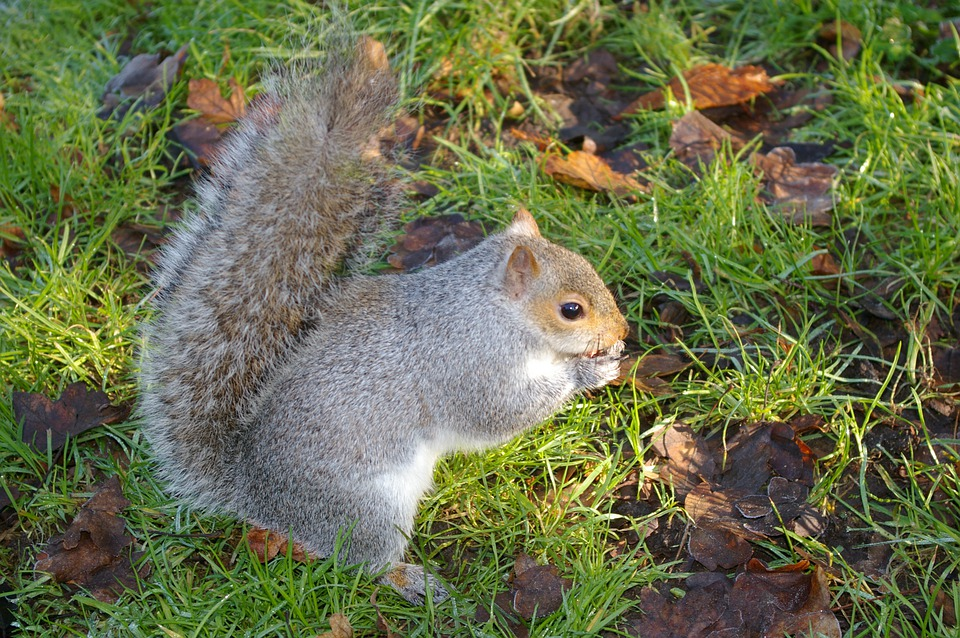squirrel: (155, 48, 630, 602)
